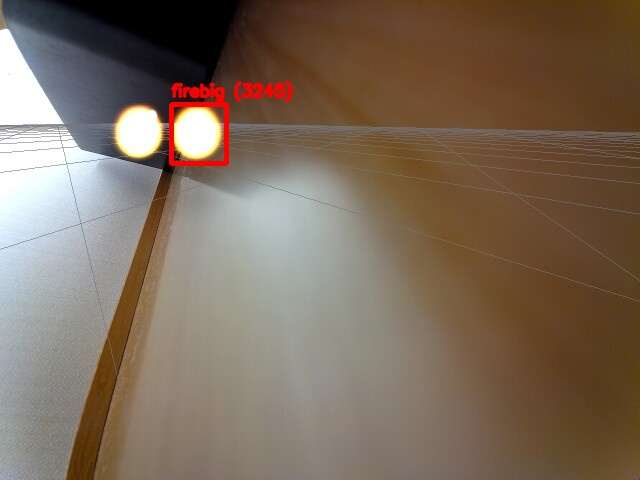firebig: (171, 104, 226, 163)
